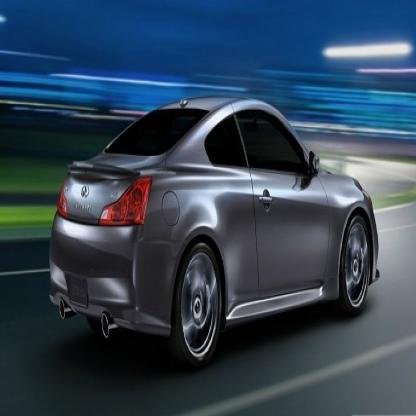Vehicle: (48, 95, 382, 378)
